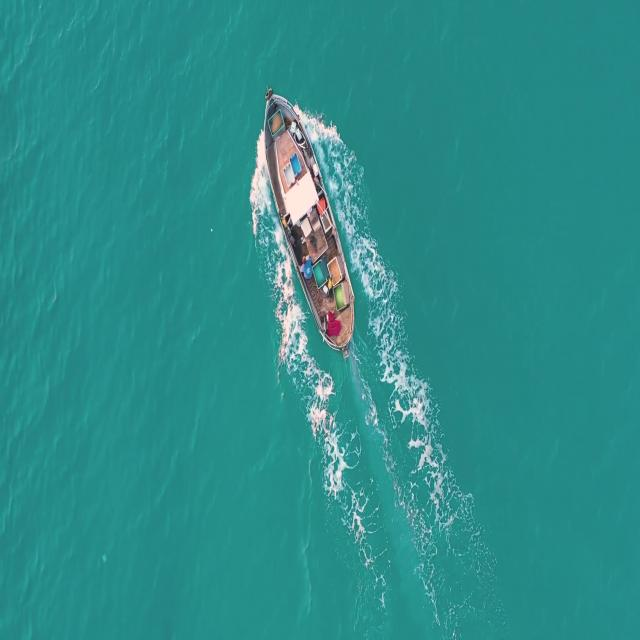ship: (262, 88, 359, 348)
